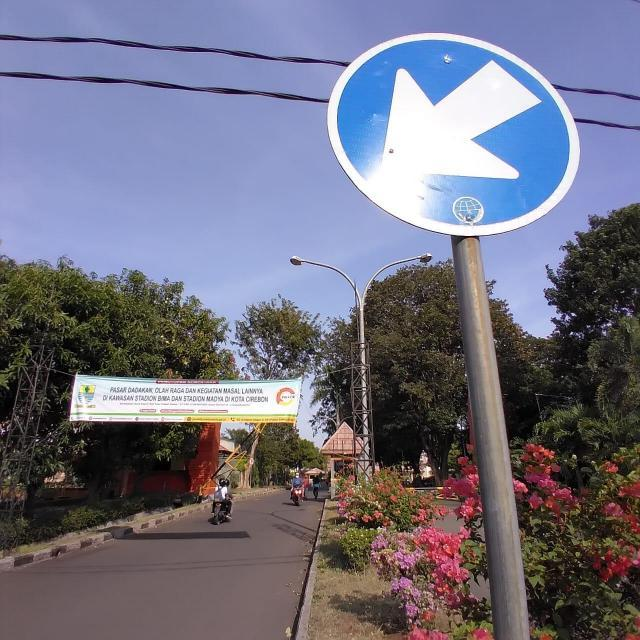traffic sign: (335, 32, 577, 224)
